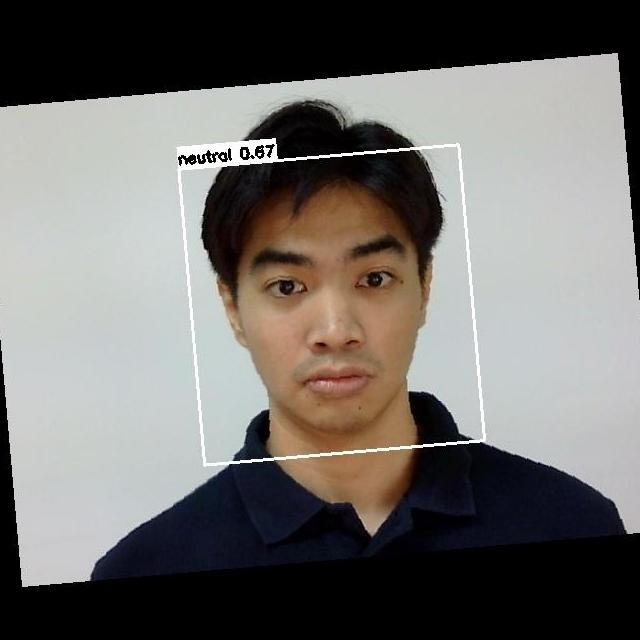Fear: (238, 217, 427, 422)
